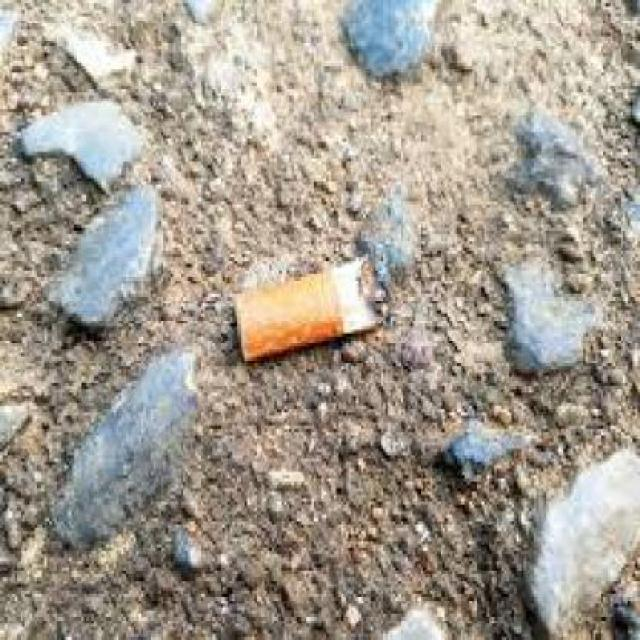cigarette: (210, 271, 418, 372)
